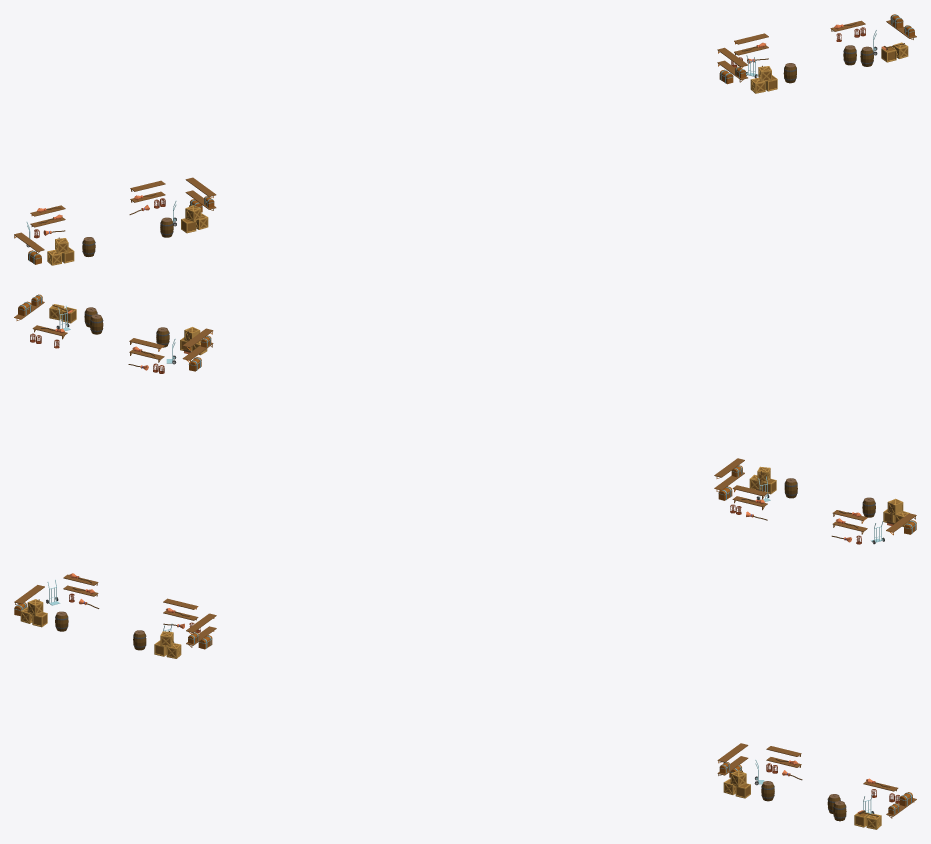
File: Arrumações.fbx
3 views of the same model, one above another, from view 1: azimuth 30°, elevation 25°; view 2: azimuth 150°, elevation 25°; view 3: azimuth 330°, elevation 25° (orthographic).
Visible parts, largest first — view 1: Arrumações; view 2: Arrumações; view 3: Arrumações.
Boxes of the visible parts, x1,y1,x2,y2 form: Arrumações: (14,14,916,265); Arrumações: (14,294,916,544); Arrumações: (14,573,916,829).
Size of the model in its own units: 1398 by 45.94 by 99.79.
